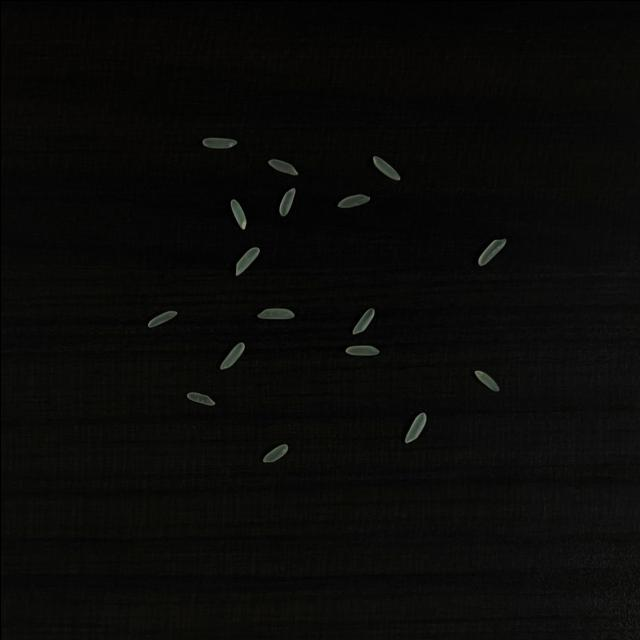Full: (476, 238, 506, 265), (234, 247, 258, 276), (404, 412, 426, 442), (372, 156, 399, 180), (220, 342, 244, 368), (352, 307, 374, 333), (474, 369, 498, 391), (230, 198, 246, 228), (267, 158, 297, 174), (337, 193, 369, 207), (148, 310, 176, 326), (278, 188, 294, 215), (262, 444, 286, 462), (256, 308, 294, 318), (186, 391, 213, 405), (201, 137, 236, 147), (344, 345, 378, 355)
